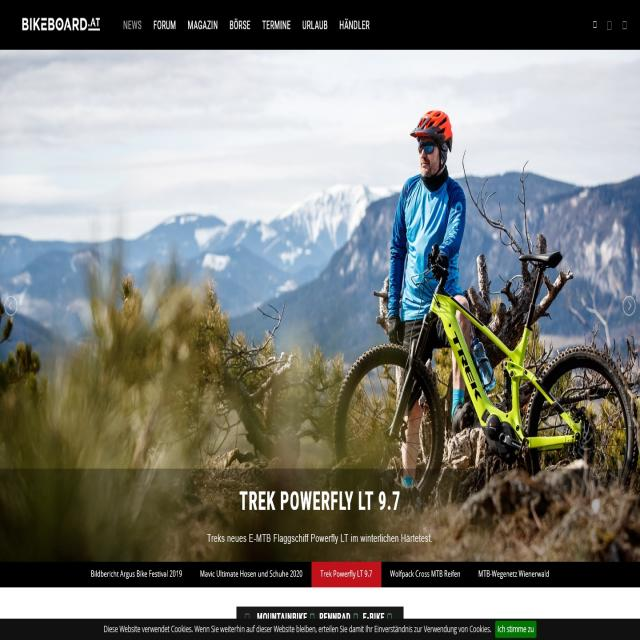button: (337, 9, 373, 40), (184, 10, 220, 39), (259, 10, 295, 39), (298, 10, 334, 39), (224, 10, 254, 39), (150, 10, 178, 39), (120, 11, 146, 37), (494, 622, 536, 638), (621, 290, 639, 320), (2, 295, 19, 319)
heading: (235, 482, 405, 518), (19, 11, 103, 41)
iframe: (0, 621, 640, 640)
image: (0, 49, 640, 563), (389, 568, 464, 581), (476, 567, 551, 580), (319, 566, 374, 579)
text: (206, 533, 433, 547), (87, 563, 187, 588), (192, 564, 306, 585)
